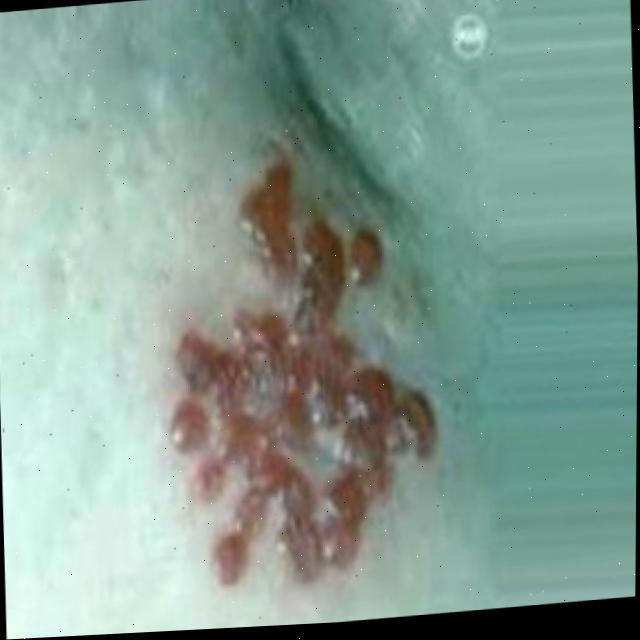Shingles: (145, 147, 453, 603)
